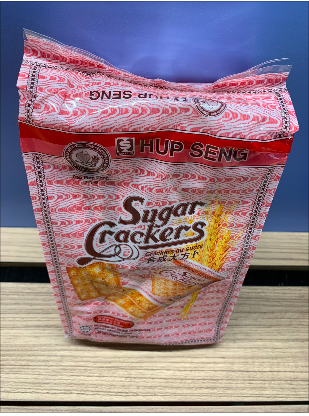Crackers_200-299g: (48, 91, 228, 339)
